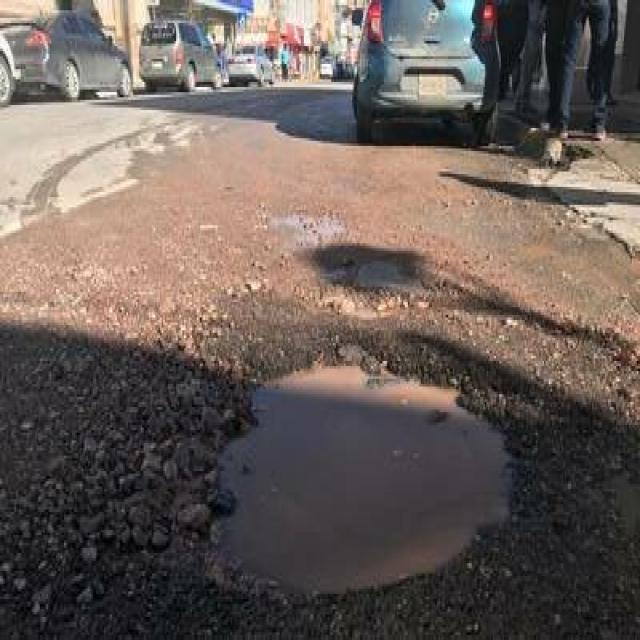Pothole: (156, 327, 555, 640), (285, 210, 536, 297)
